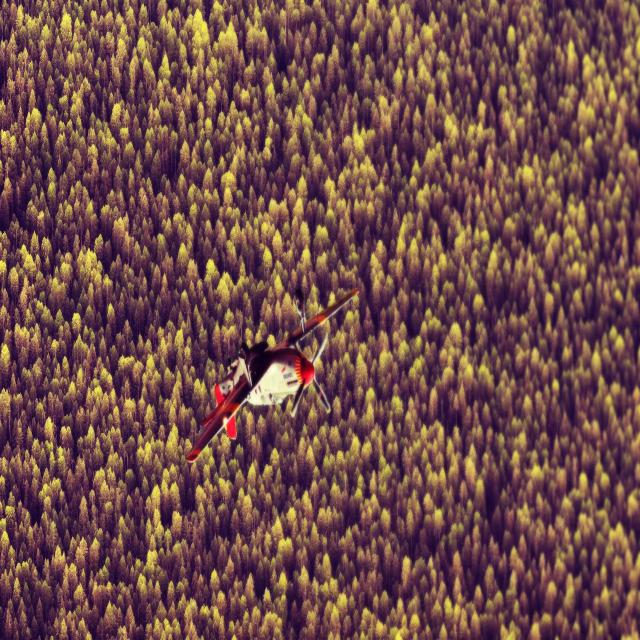airplane: (184, 287, 360, 463)
